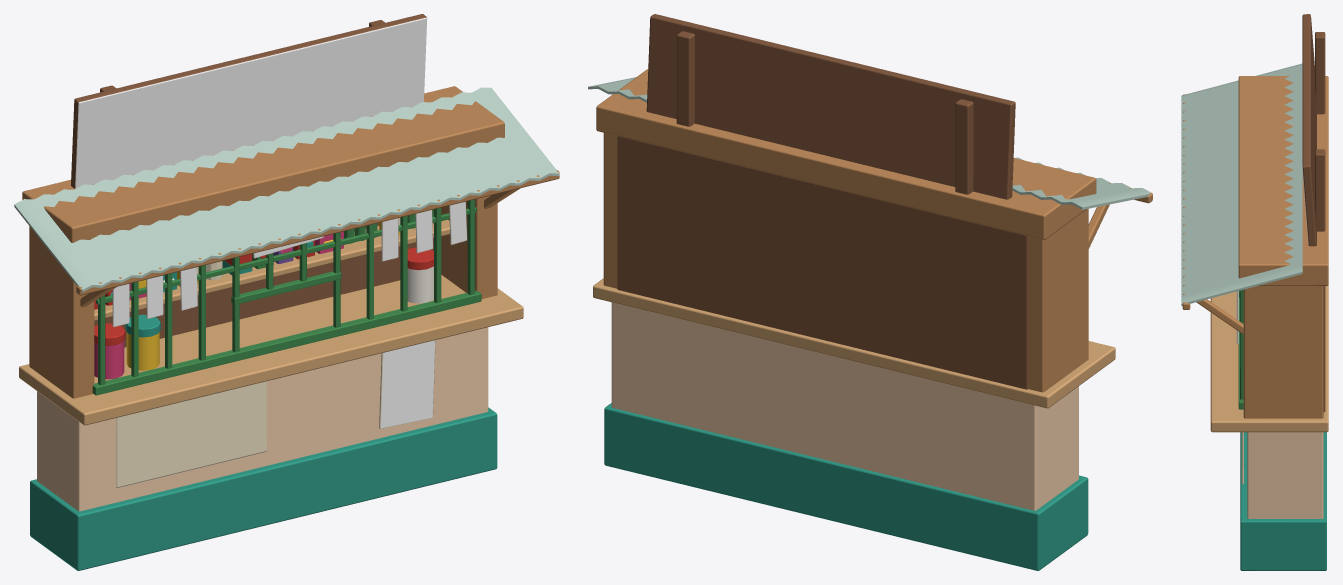
Rendered from prop_sarisari_front.glb.
3 views of the same model, side by side, from view 1: azimuth 30°, elevation 25°; view 2: azimuth 150°, elevation 25°; view 3: azimuth 270°, elevation 25° (orthographic). The views are drawn at different scales.
Parts seen in each view (by area): view 1: prop_sarisari_front; view 2: prop_sarisari_front; view 3: prop_sarisari_front.
Part boxes in pixels (bbox=[...]): prop_sarisari_front: bbox=[14, 14, 559, 570]; prop_sarisari_front: bbox=[588, 14, 1152, 570]; prop_sarisari_front: bbox=[1181, 14, 1328, 570].
Bounding box in the file's own units: 2.86 × 2.48 × 0.85.
